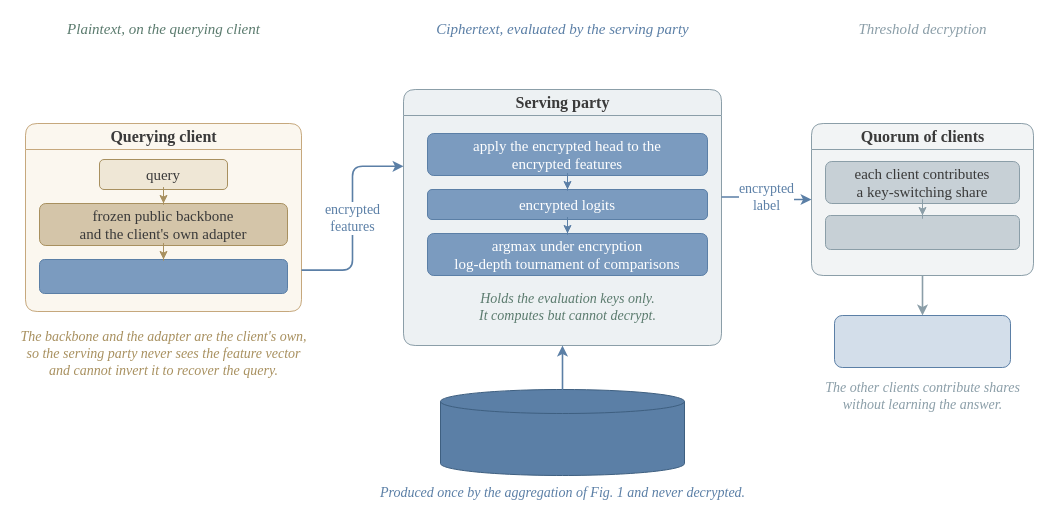
Image size: 1061x522. Some labels were removed from this diagram. Each missing label, with the centre of its shape:
encrypt the feature vector: the point at 163,276
one predicted label, to the querier alone: the point at 922,341
shared classifier head, in ciphertext: the point at 562,432
switch to the querier's key: the point at 922,232
